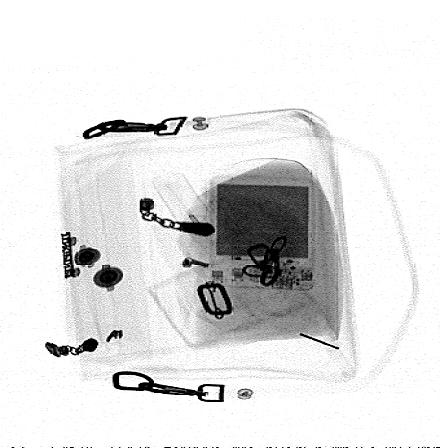Powerbank: (206, 173, 316, 293)
